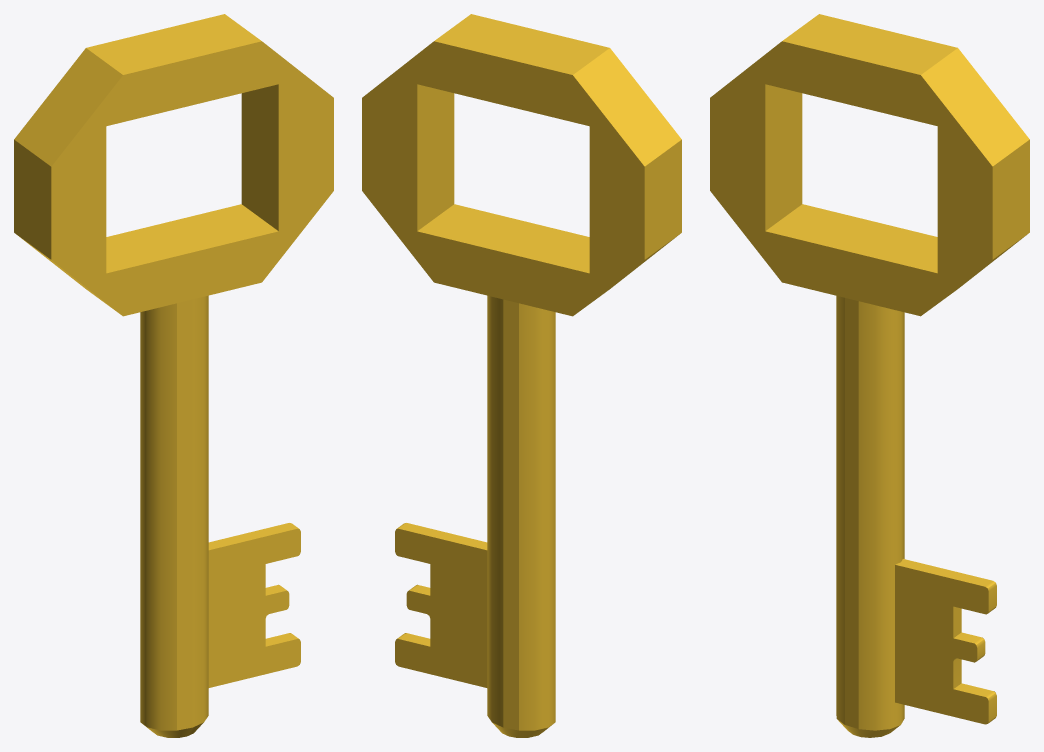
Rendered from Key.fbx.
3 views of the same model, side by side, from view 1: azimuth 30°, elevation 25°; view 2: azimuth 150°, elevation 25°; view 3: azimuth 330°, elevation 25° (orthographic).
Parts seen in each view (by area): view 1: Key_head, key_body, key_insert; view 2: Key_head, key_body, key_insert; view 3: Key_head, key_body, key_insert.
Boxes of the visible parts, x1,y1,x2,y2 form: Key_head: (14, 14, 333, 316); key_body: (140, 295, 208, 737); key_insert: (208, 523, 300, 687); Key_head: (362, 14, 681, 316); key_body: (487, 295, 555, 737); key_insert: (395, 523, 487, 687); Key_head: (710, 14, 1029, 316); key_body: (836, 296, 904, 737); key_insert: (895, 559, 996, 724).
Bounding box in the file's own units: 0.3632 × 0.8399 × 0.0828.
